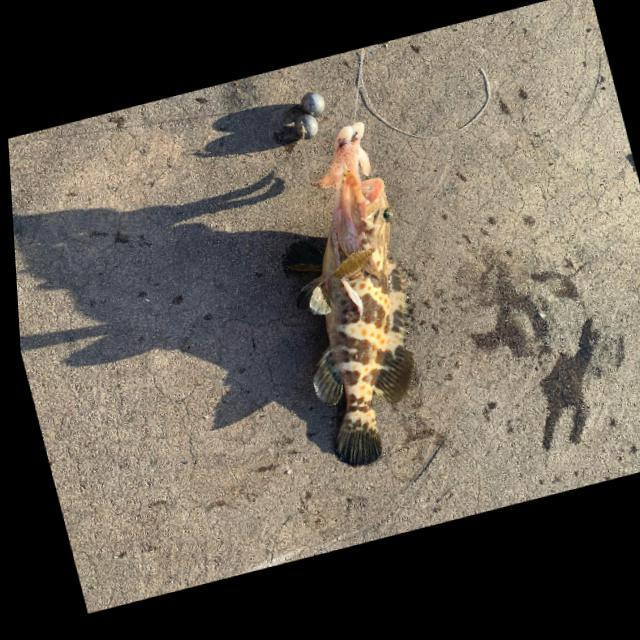Groupers: (259, 159, 455, 477)
